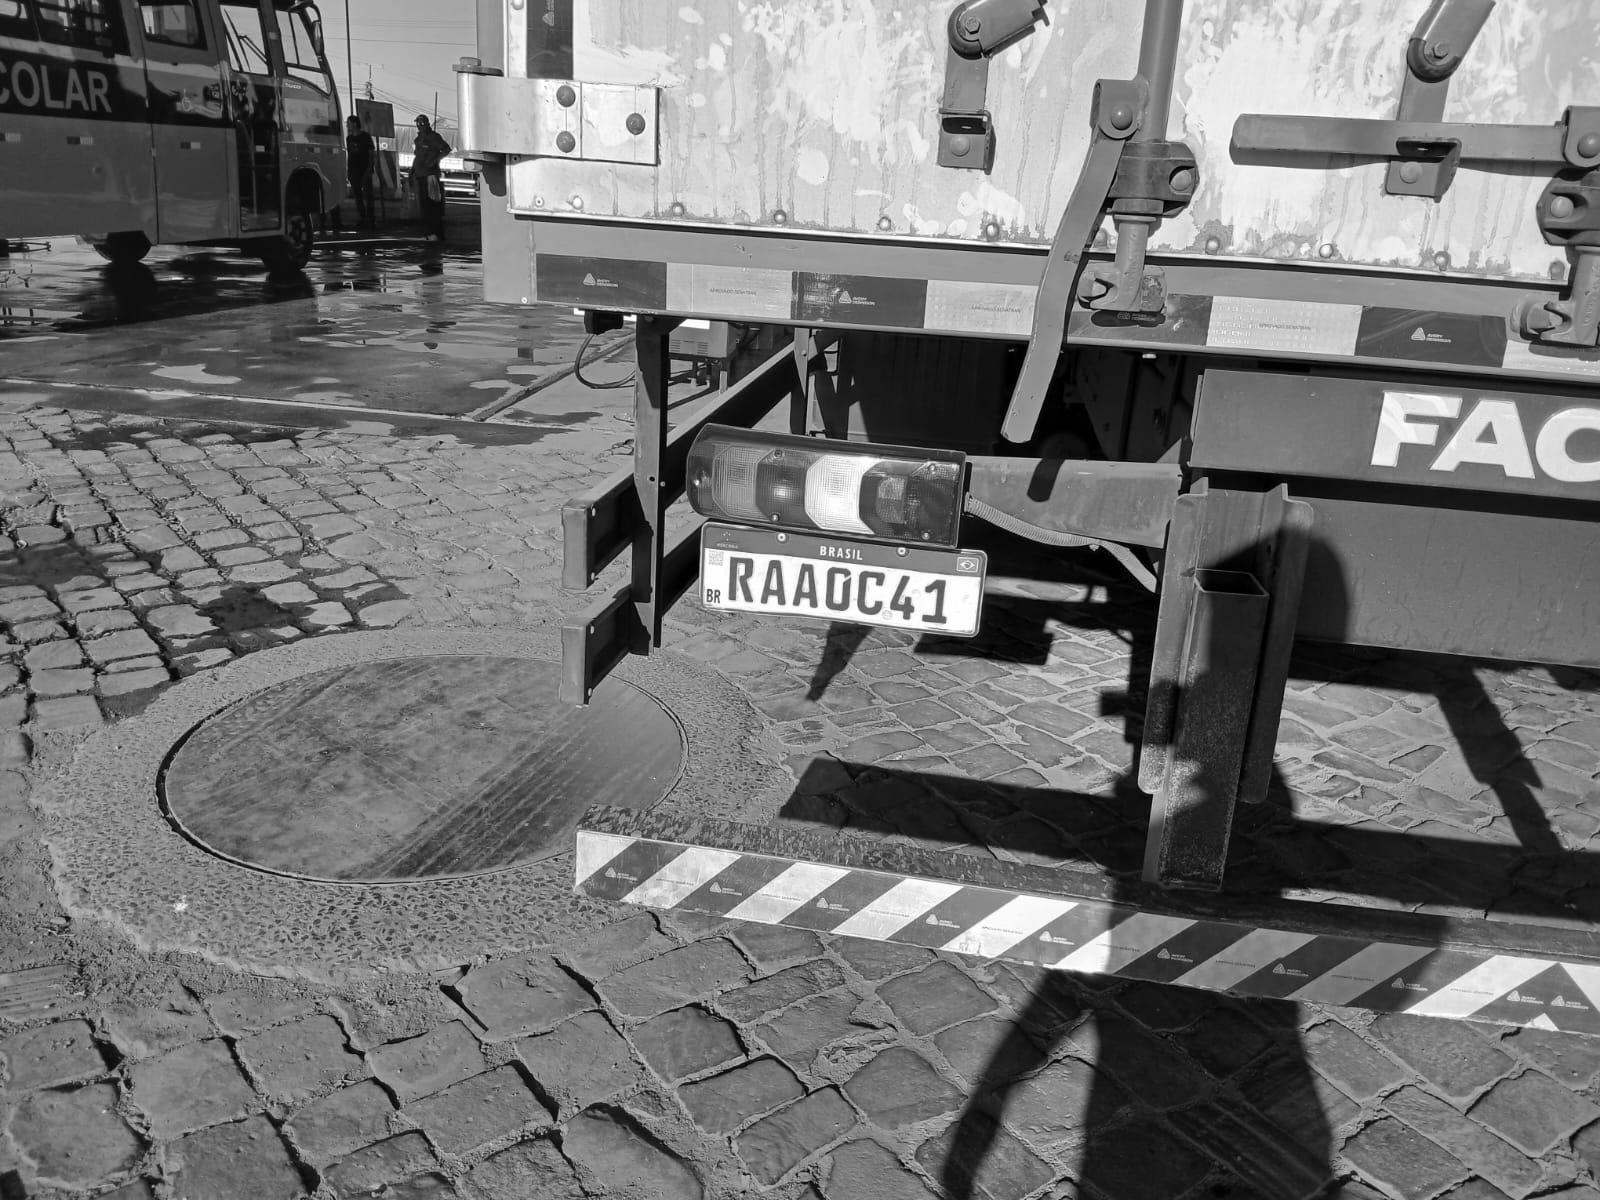placa_mercosul: (701, 523, 985, 635)
